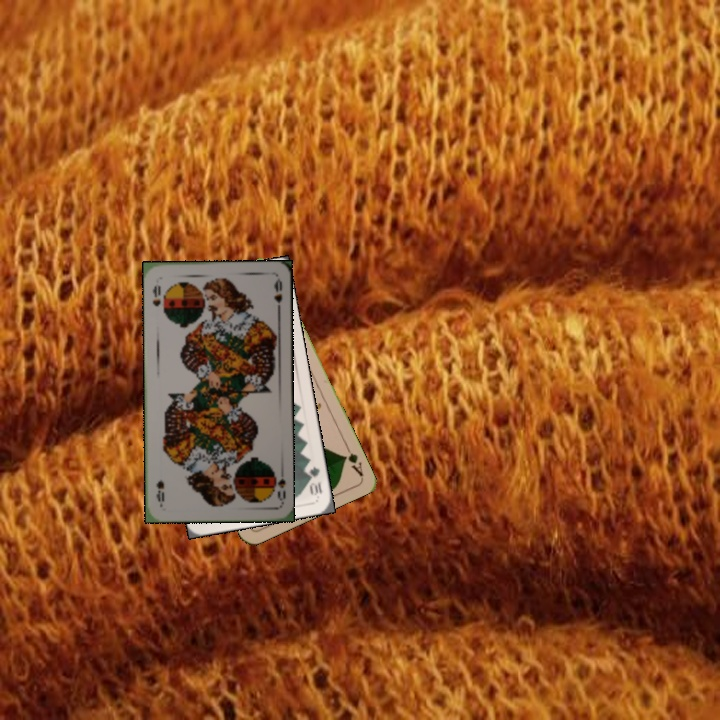G10: (303, 462, 325, 498)
GA: (339, 441, 366, 479)
SO: (269, 464, 288, 505), (148, 281, 163, 309)
